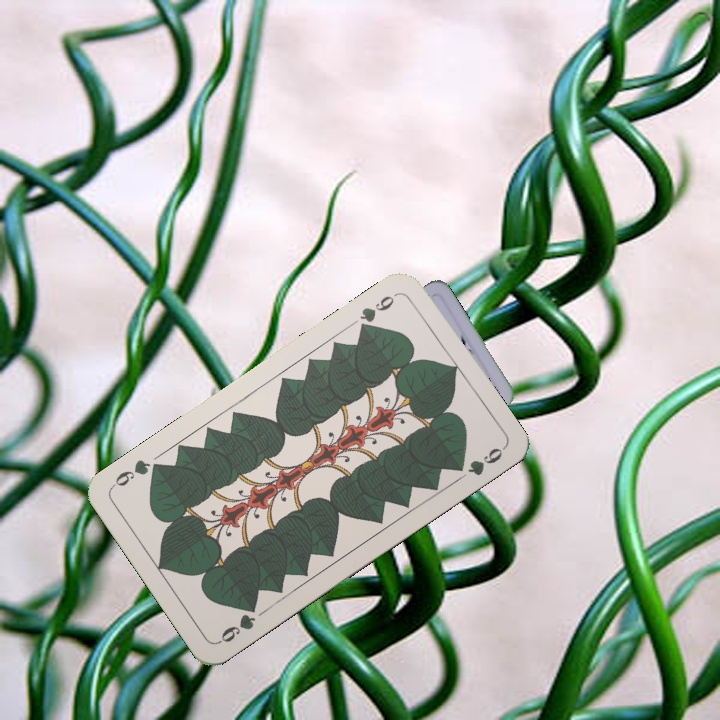G9: (214, 599, 260, 646), (354, 289, 400, 335)
